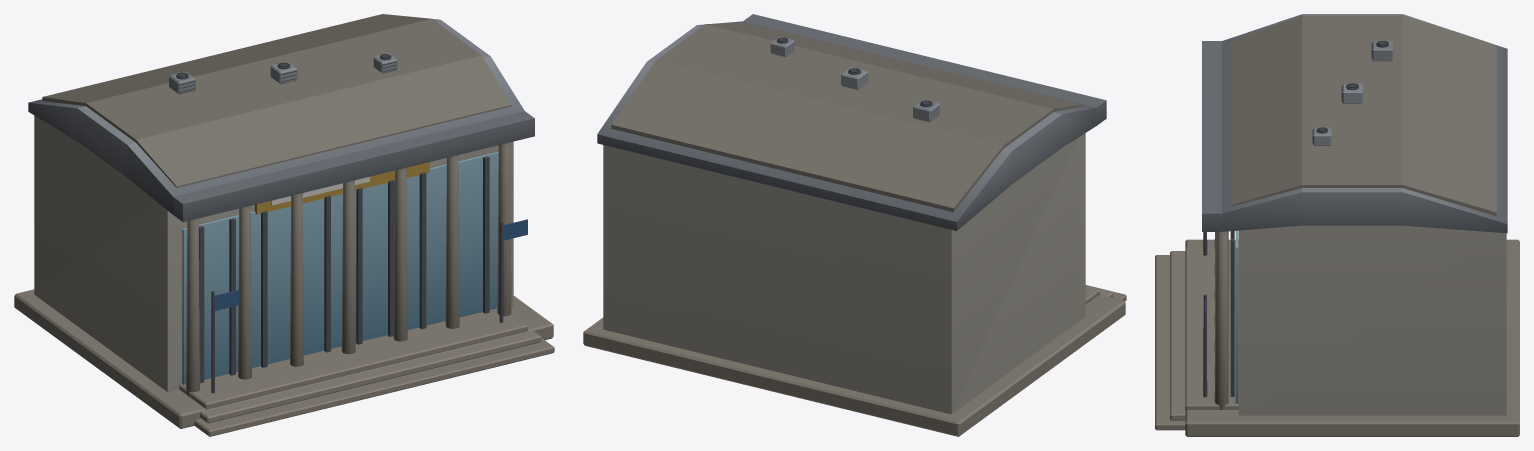
The model's file is convention_megastructure_01.glb.
The picture shows the model from 3 angles, left to right: view 1: azimuth 30°, elevation 25°; view 2: azimuth 150°, elevation 25°; view 3: azimuth 270°, elevation 25°; orthographic projection.
Parts seen in each view (by area): view 1: convention_megastructure_01; view 2: convention_megastructure_01; view 3: convention_megastructure_01.
Boxes of the visible parts, x1=… form: convention_megastructure_01: x1=14, y1=14, x2=554, y2=436; convention_megastructure_01: x1=583, y1=14, x2=1126, y2=436; convention_megastructure_01: x1=1155, y1=14, x2=1519, y2=436.
Size of the model in its own units: 13 by 8.59 by 10.9.
